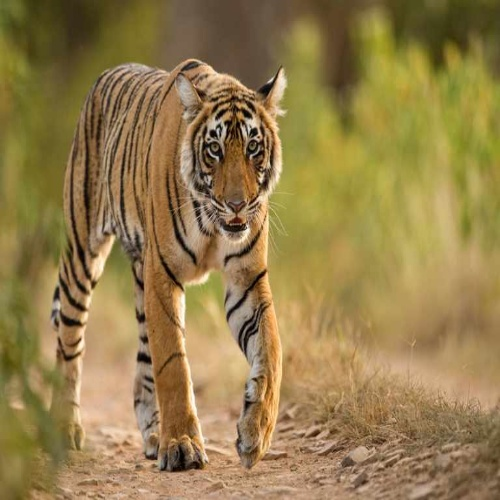tiger: (44, 39, 315, 483)
